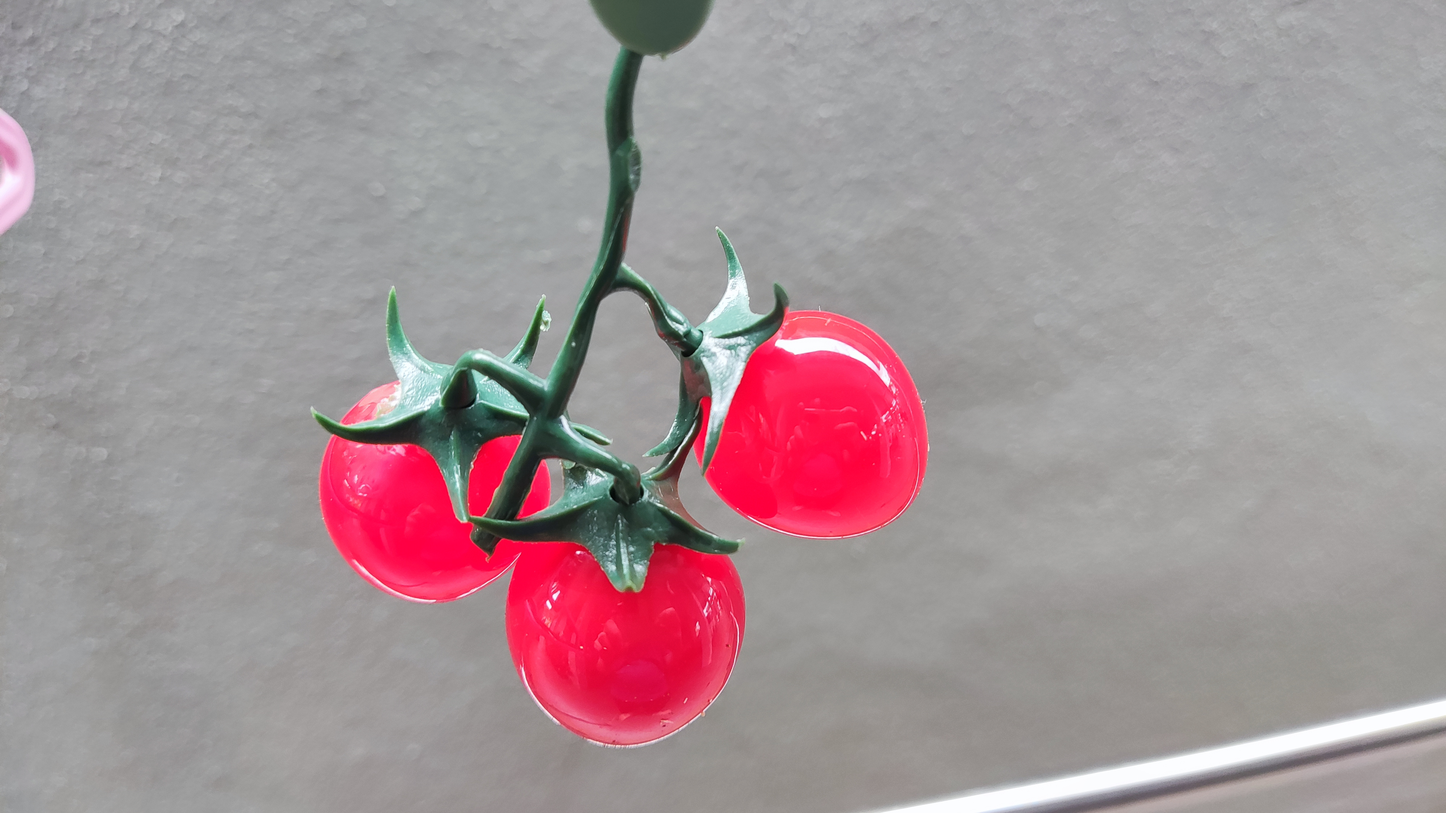peduncle: (598, 45, 645, 261)
strawberry: (706, 309, 929, 537), (505, 542, 745, 746), (318, 435, 522, 602), (467, 435, 519, 513), (341, 380, 399, 424)
